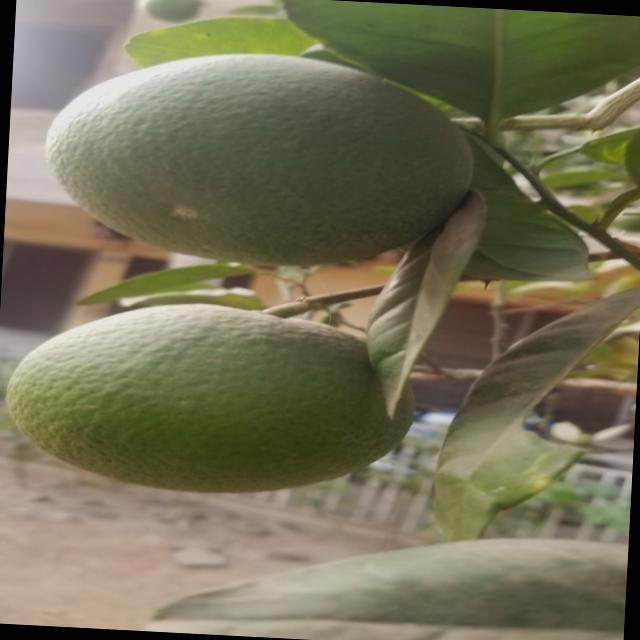Unripe: (39, 47, 490, 276), (1, 296, 418, 500)
